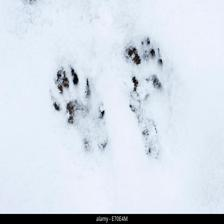raccoon: (44, 66, 93, 130)
